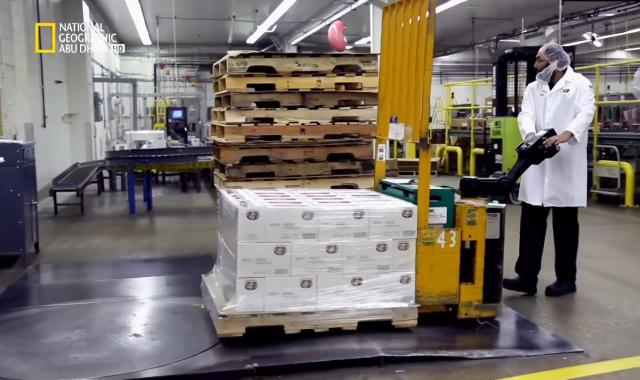hairnet: (532, 40, 571, 82)
